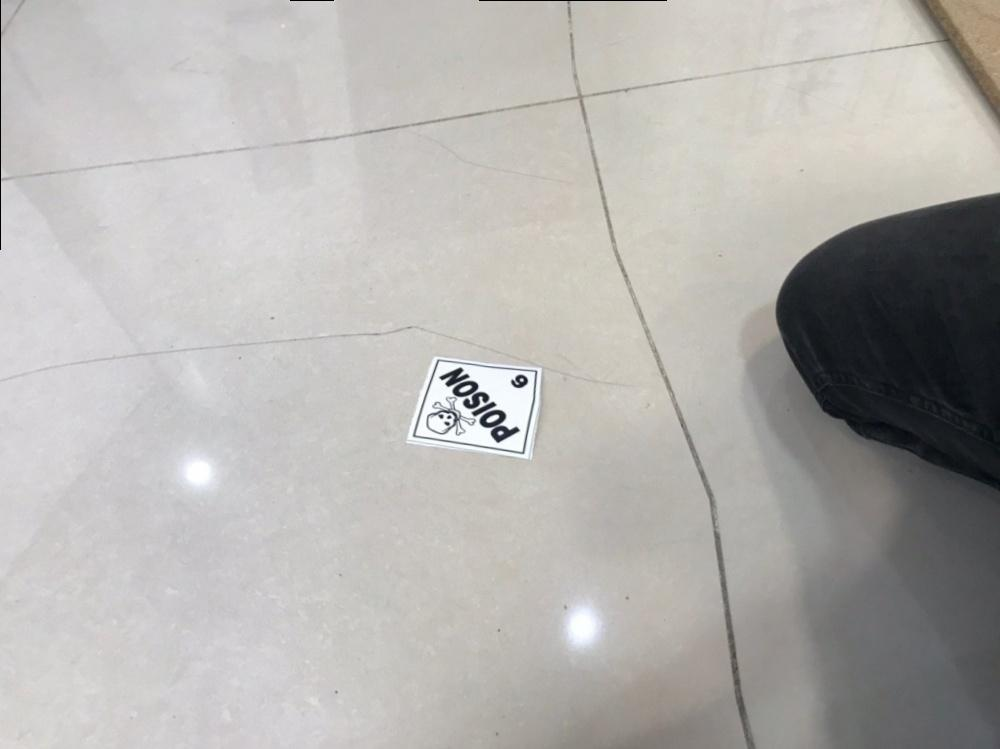poison: (403, 353, 553, 466)
